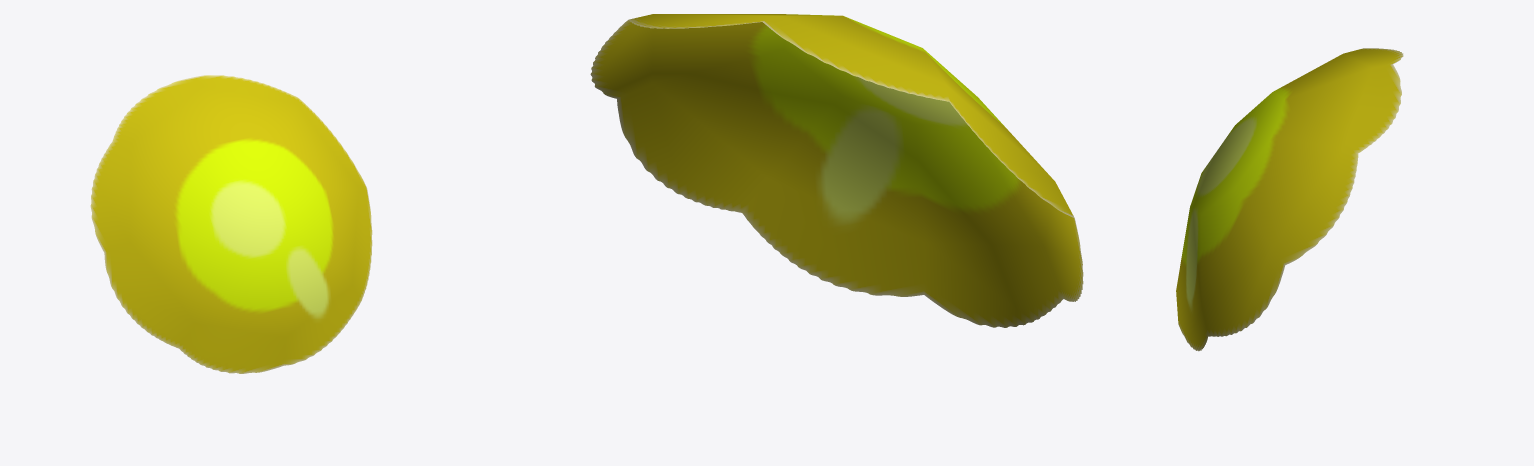
The model's file is M_EnemyGhost_02_Eye.fbx.
3 renders of one model, left to right at view 1: azimuth 30°, elevation 25°; view 2: azimuth 150°, elevation 25°; view 3: azimuth 270°, elevation 25°, orthographic. The views are drawn at different scales.
Visible parts, largest first — view 1: M_EnemyGhost_02_Eye; view 2: M_EnemyGhost_02_Eye; view 3: M_EnemyGhost_02_Eye.
Boxes of the visible parts, bbox=[...] form: M_EnemyGhost_02_Eye: bbox=[90, 75, 372, 373]; M_EnemyGhost_02_Eye: bbox=[590, 14, 1083, 327]; M_EnemyGhost_02_Eye: bbox=[1176, 48, 1403, 351].
Size of the model in its own units: 65.25 by 51.75 by 41.42.
